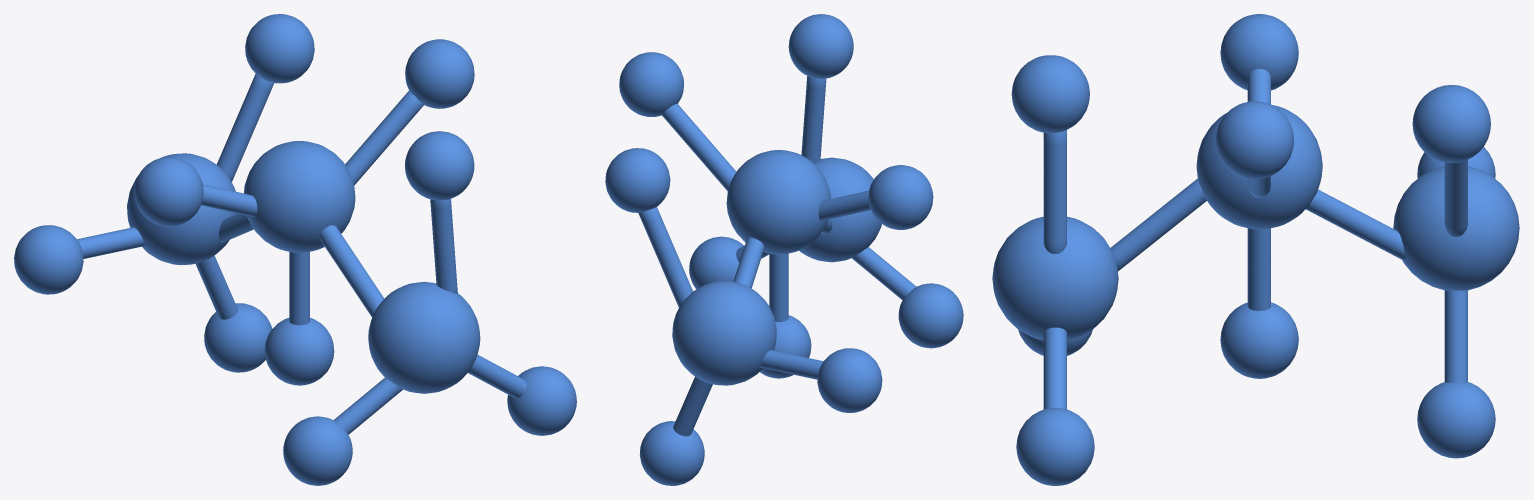
The model's file is Propane.obj.
3 views of the same model, side by side, from view 1: azimuth 30°, elevation 25°; view 2: azimuth 150°, elevation 25°; view 3: azimuth 270°, elevation 25° (orthographic). The views are drawn at different scales.
Visible parts, largest first — view 1: Sphere002, Sphere003, Sphere004, Object011, Object015, Object013, Object002, Object003, Object007, Object010, Object001, Object018 (+11 smaller); view 2: Sphere004, Sphere003, Sphere002, Object011, Object015, Object002, Object003, Object013, Object007, Object018, Object001, Object014 (+9 smaller); view 3: Sphere002, Sphere004, Sphere003, Object007, Object013, Object002, Object001, Object018, Object010, Object011, Object006, Cylinder004 (+8 smaller).
Part boxes in pixels (bbox=[...]): Sphere002: bbox=[368, 281, 480, 393]; Sphere003: bbox=[244, 141, 355, 252]; Sphere004: bbox=[127, 153, 237, 265]; Object011: bbox=[134, 157, 203, 226]; Object015: bbox=[14, 225, 83, 294]; Object013: bbox=[245, 14, 314, 83]; Object002: bbox=[405, 131, 474, 200]; Object003: bbox=[283, 416, 352, 485]; Object007: bbox=[405, 39, 474, 108]; Object010: bbox=[264, 318, 334, 385]; Object001: bbox=[507, 366, 576, 435]; Object018: bbox=[204, 303, 272, 372]; Sphere004: bbox=[672, 281, 776, 385]; Sphere003: bbox=[726, 150, 830, 254]; Sphere002: bbox=[799, 157, 881, 262]; Object011: bbox=[868, 165, 933, 229]; Object015: bbox=[817, 348, 882, 412]; Object002: bbox=[788, 14, 853, 78]; Object003: bbox=[898, 283, 963, 348]; Object013: bbox=[605, 148, 670, 212]; Object007: bbox=[619, 52, 683, 116]; Object018: bbox=[639, 421, 704, 485]; Object001: bbox=[689, 236, 743, 289]; Object014: bbox=[638, 207, 692, 307]; Sphere002: bbox=[992, 216, 1118, 340]; Sphere004: bbox=[1393, 166, 1519, 290]; Sphere003: bbox=[1196, 104, 1322, 229]; Object007: bbox=[1215, 101, 1294, 179]; Object013: bbox=[1412, 85, 1490, 163]; Object002: bbox=[1011, 55, 1089, 133]; Object001: bbox=[1016, 408, 1094, 485]; Object018: bbox=[1417, 382, 1495, 458]; Object010: bbox=[1220, 302, 1298, 378]; Object011: bbox=[1220, 14, 1298, 90]; Object006: bbox=[1043, 130, 1066, 253]; Cylinder004: bbox=[1110, 178, 1206, 271].
Bounding box in the file's own units: 137 × 128 × 148.
